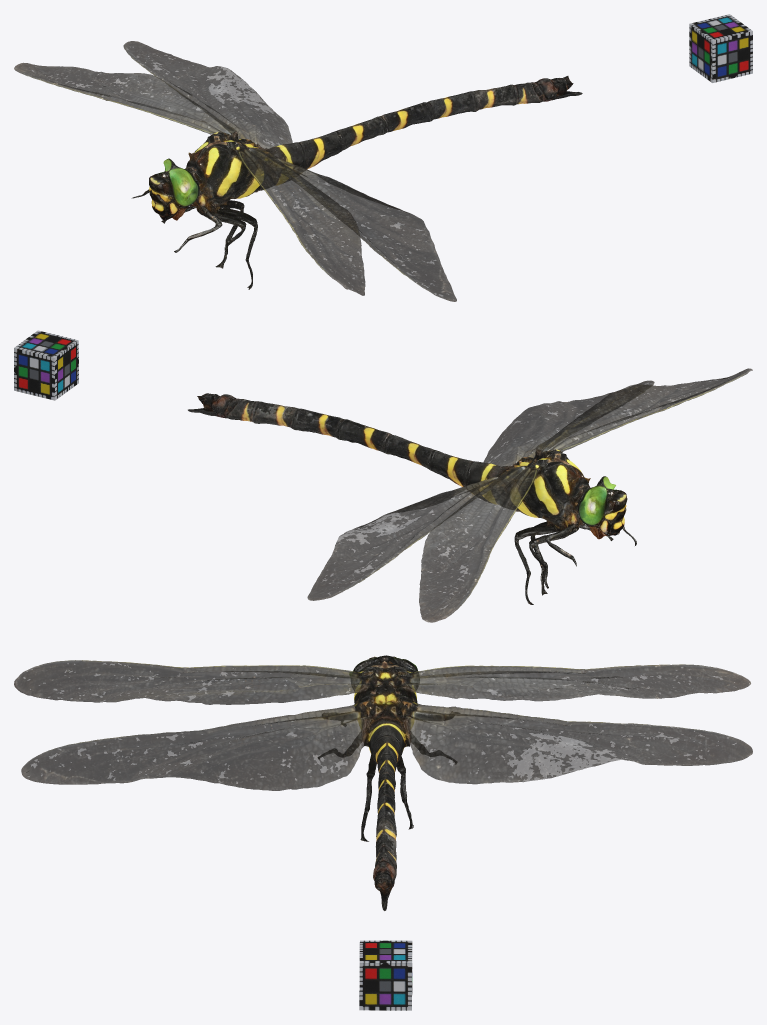
File: mq_libelula_11.glb
3 views of the same model, one above another, from view 1: azimuth 30°, elevation 25°; view 2: azimuth 150°, elevation 25°; view 3: azimuth 270°, elevation 25° (orthographic). The views are drawn at different scales.
Parts seen in each view (by area): view 1: hane_5, Cube_2; view 2: hane_5, Cube_2; view 3: hane_5, Cube_2.
Part boxes in pixels (<box>): hane_5: <box>14,41,582,301</box>; Cube_2: <box>689,14,752,82</box>; hane_5: <box>188,368,752,622</box>; Cube_2: <box>14,330,78,400</box>; hane_5: <box>14,655,752,910</box>; Cube_2: <box>359,940,412,1010</box>.
Bounding box in the file's own units: 8.22 × 1.97 × 7.94.
3 materials, 3 textured.
